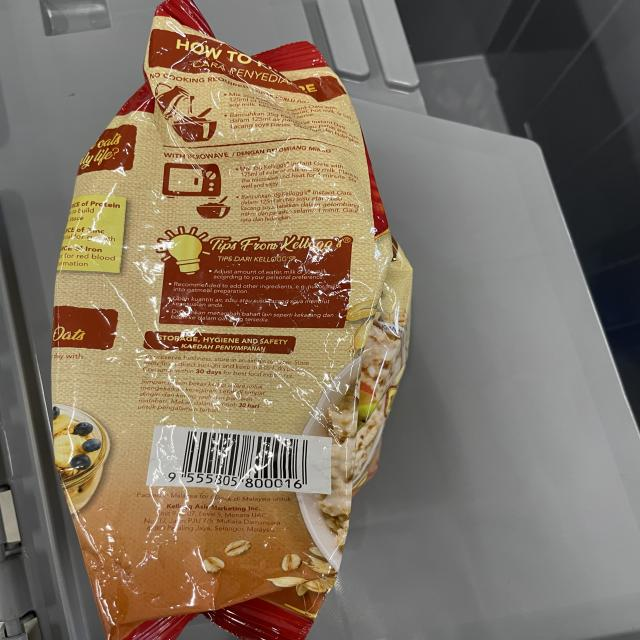object_name: (91, 27, 341, 626)
